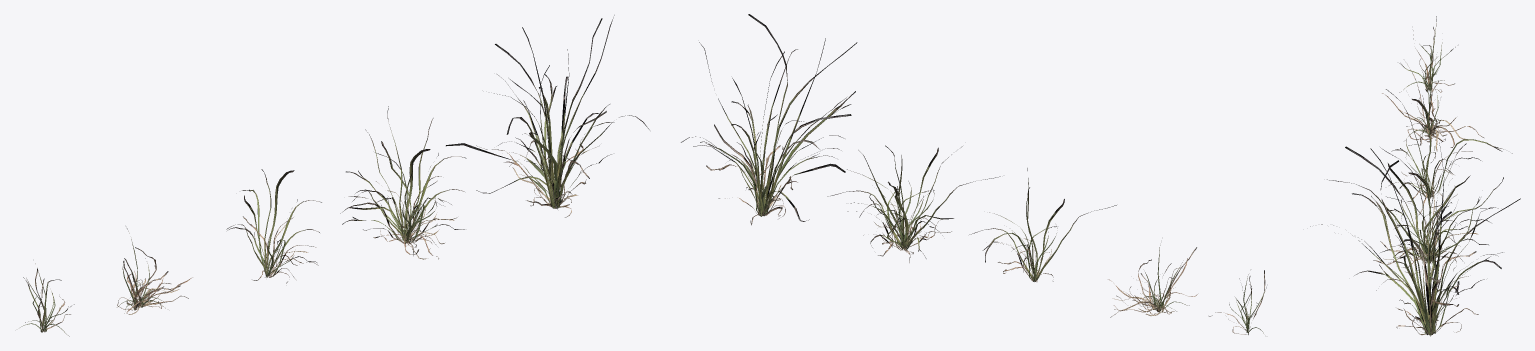
Rendered from grass_medium_02.glb.
The picture shows the model from 3 angles, left to right: view 1: azimuth 30°, elevation 25°; view 2: azimuth 150°, elevation 25°; view 3: azimuth 270°, elevation 25°; orthographic projection. The views are drawn at different scales.
Visible parts, largest first — view 1: grass_medium_02_e, grass_medium_02_d, grass_medium_02_c, grass_medium_02_b, grass_medium_02_a; view 2: grass_medium_02_e, grass_medium_02_d, grass_medium_02_c, grass_medium_02_b, grass_medium_02_a; view 3: grass_medium_02_e, grass_medium_02_d, grass_medium_02_c, grass_medium_02_b, grass_medium_02_a.
Part boxes in pixels (x1,y1,x2,y2): grass_medium_02_e: (446, 15, 649, 217); grass_medium_02_d: (340, 106, 466, 259); grass_medium_02_c: (226, 169, 321, 283); grass_medium_02_b: (117, 228, 192, 314); grass_medium_02_a: (20, 263, 74, 336); grass_medium_02_e: (681, 14, 857, 225); grass_medium_02_d: (827, 145, 1000, 262); grass_medium_02_c: (969, 168, 1116, 281); grass_medium_02_b: (1108, 245, 1197, 317); grass_medium_02_a: (1209, 270, 1266, 334); grass_medium_02_e: (1310, 143, 1520, 336); grass_medium_02_d: (1327, 143, 1503, 274); grass_medium_02_c: (1386, 89, 1512, 214); grass_medium_02_b: (1382, 61, 1483, 151); grass_medium_02_a: (1399, 16, 1455, 92).
Size of the model in its own units: 1.31 by 0.4053 by 0.4326.
Materials: 1 (1 with a texture image).
